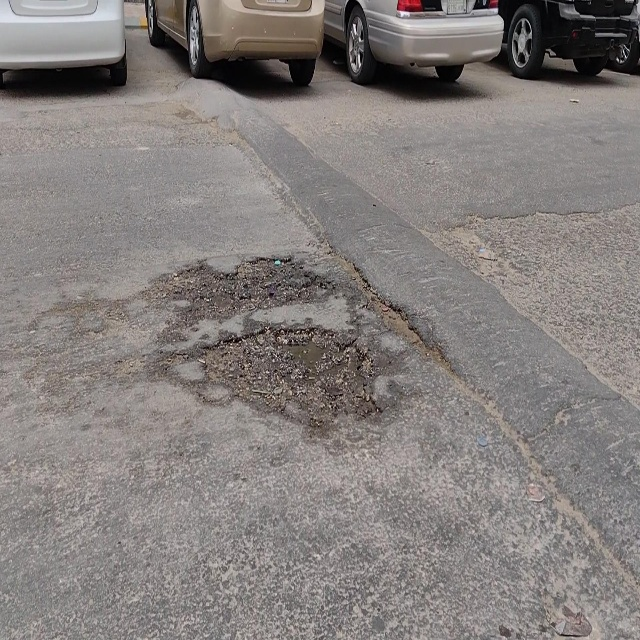pothole: (197, 321, 384, 425), (161, 252, 332, 342)
